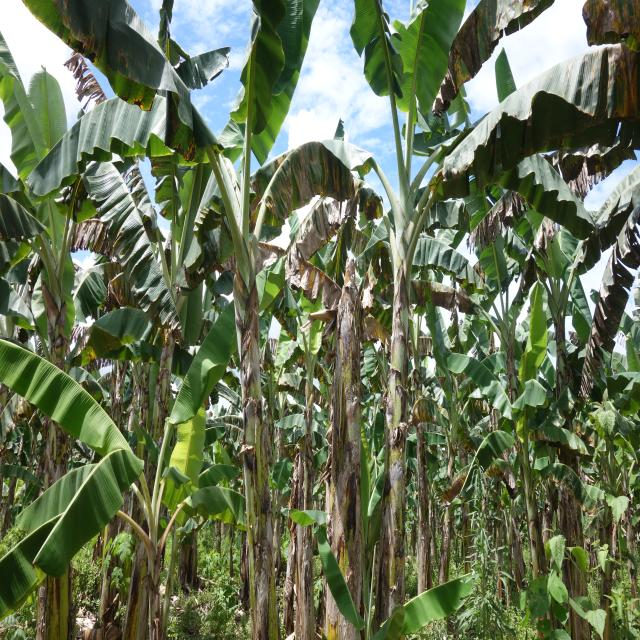Banana-plant: (215, 158, 283, 640), (123, 279, 191, 640), (380, 190, 420, 640), (39, 239, 74, 640), (326, 305, 366, 640), (554, 330, 585, 640), (293, 354, 316, 640)
